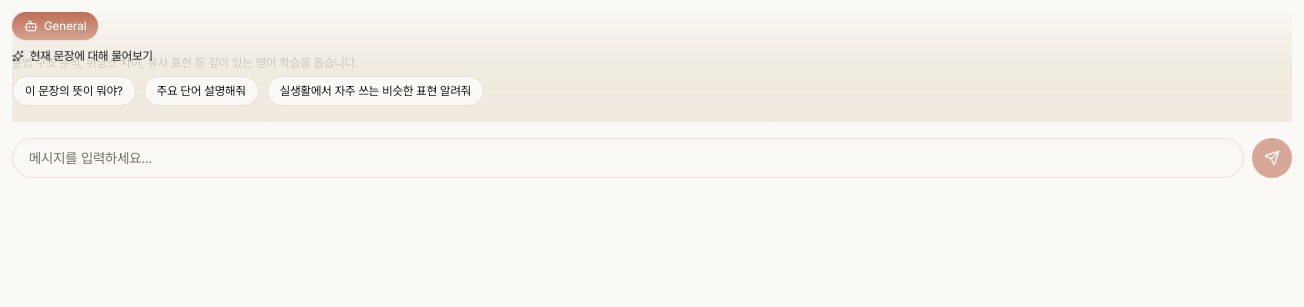
Test case: TutorChat › should hide suggested chips after the user sends the first message
The image size is (1304, 307).
Expected: the button "이 문장의 뜻이 뭐야?" is shown, [12,76,136,106]
Type "안녕" into the field with placeholder "메시지를 입력하세요...".
click(628, 158); type("안녕")  # box [12,138,1244,178]
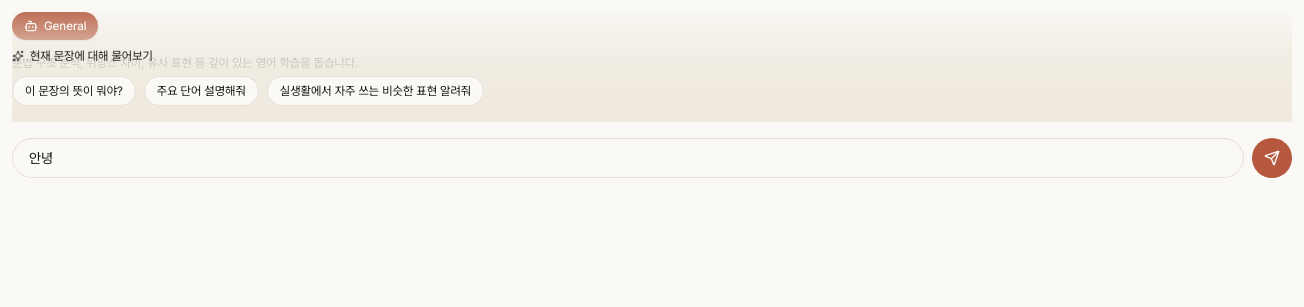
Submit the form from the field with placeholder "메시지를 입력하세요...", box [12,138,1244,178]
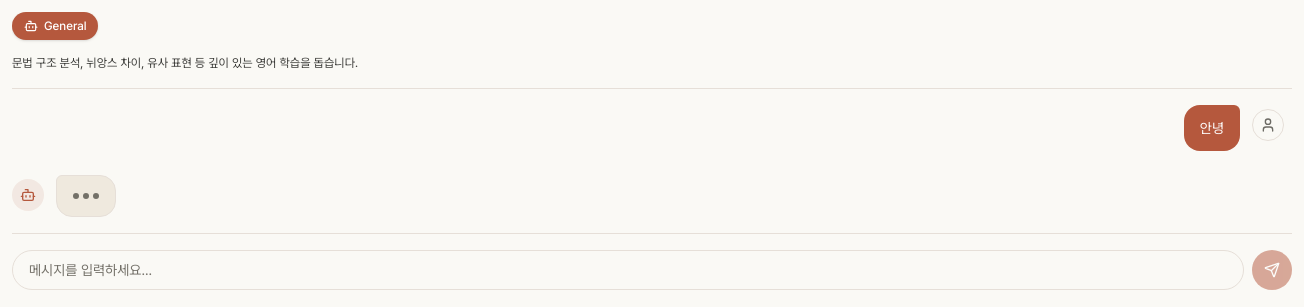
Now the button "이 문장의 뜻이 뭐야?" is gone
